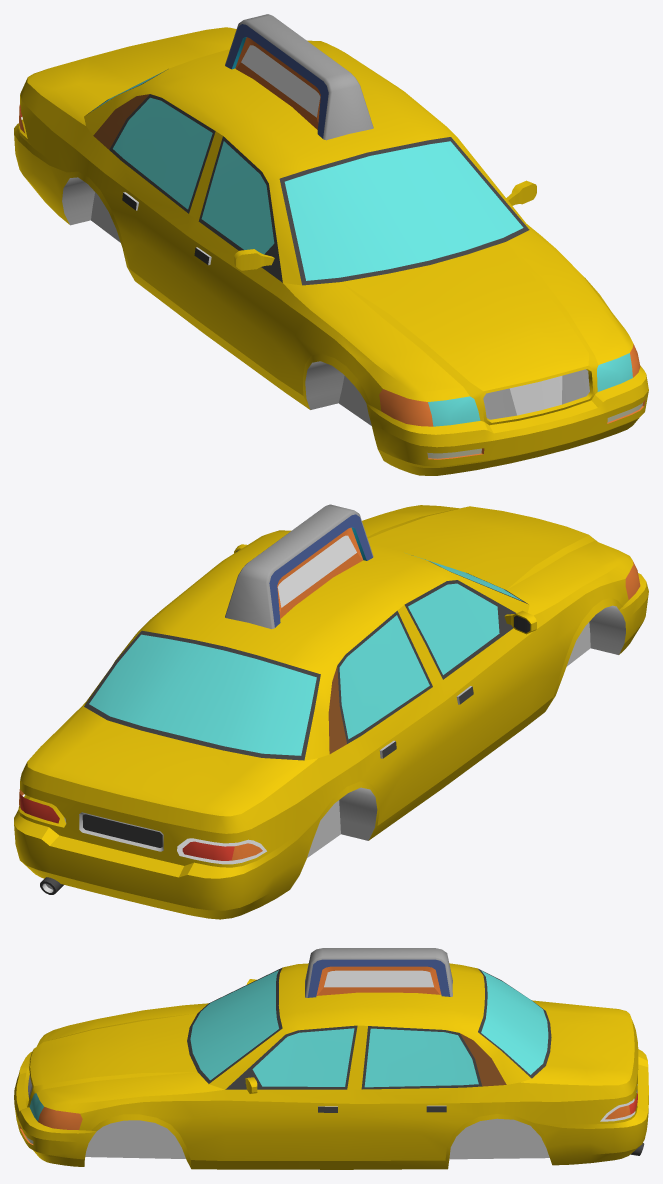
The model's file is TaxiEDT.fbx.
3 views of the same model, one above another, from view 1: azimuth 30°, elevation 25°; view 2: azimuth 150°, elevation 25°; view 3: azimuth 270°, elevation 25° (orthographic). The views are drawn at different scales.
Parts seen in each view (by area): view 1: Body.LOD00, Signal; view 2: Body.LOD00, Signal; view 3: Body.LOD00, Signal.
Boxes of the visible parts, x1,y1,x2,y2 form: Body.LOD00: (14,27,648,475); Signal: (225,14,373,140); Body.LOD00: (14,505,648,919); Signal: (225,504,373,629); Body.LOD00: (14,963,648,1169); Signal: (305,948,452,997).
Size of what is drawn, in the model's own units: 198 by 153 by 496.
